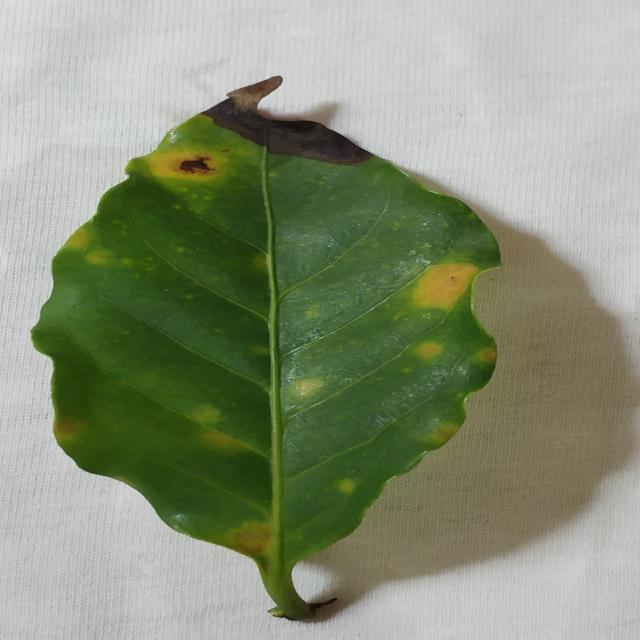Enfermedad-Roya: (30, 77, 503, 624)
